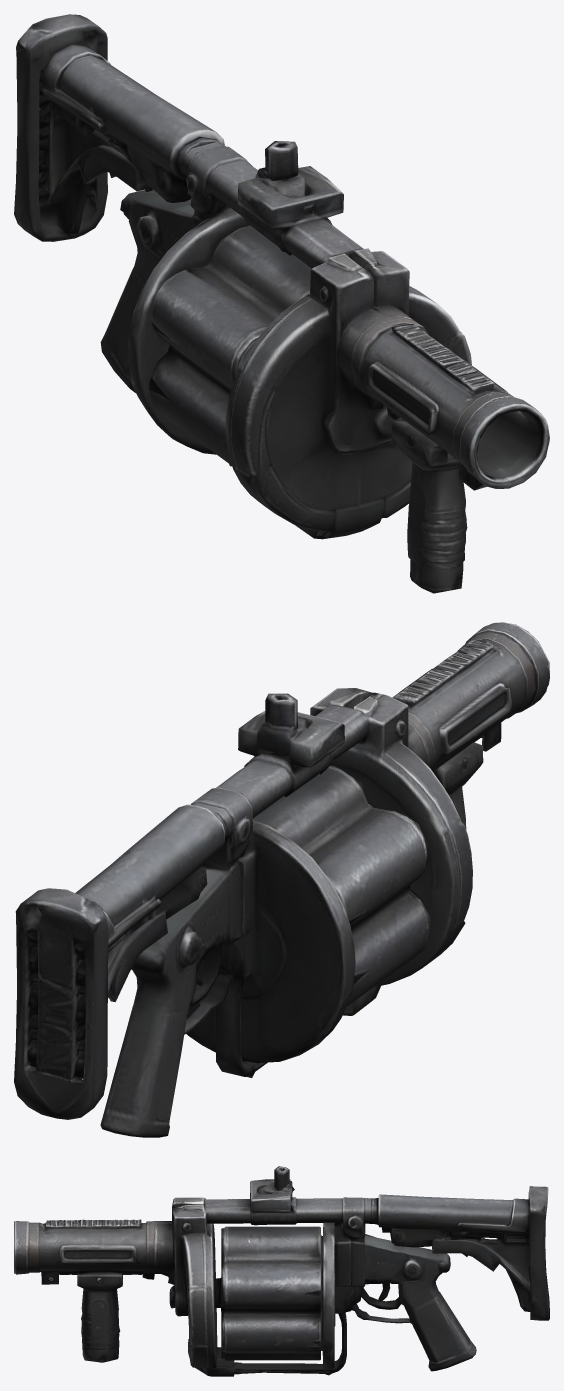
The picture shows the model from 3 angles, top to bottom: view 1: azimuth 30°, elevation 25°; view 2: azimuth 150°, elevation 25°; view 3: azimuth 270°, elevation 25°; orthographic projection. The views are drawn at different scales.
Parts seen in each view (by area): view 1: tripo_node_93db568a-45f9-4ad3-8e61-e208f92ca66c; view 2: tripo_node_93db568a-45f9-4ad3-8e61-e208f92ca66c; view 3: tripo_node_93db568a-45f9-4ad3-8e61-e208f92ca66c.
Part boxes in pixels (box(x1,y1,x2,y2)): tripo_node_93db568a-45f9-4ad3-8e61-e208f92ca66c: box(14, 14, 549, 593); tripo_node_93db568a-45f9-4ad3-8e61-e208f92ca66c: box(14, 622, 549, 1137); tripo_node_93db568a-45f9-4ad3-8e61-e208f92ca66c: box(14, 1166, 549, 1376).
Bounding box in the file's own units: 0.2853 × 0.4112 × 0.9821.
1 material, 1 textured.
